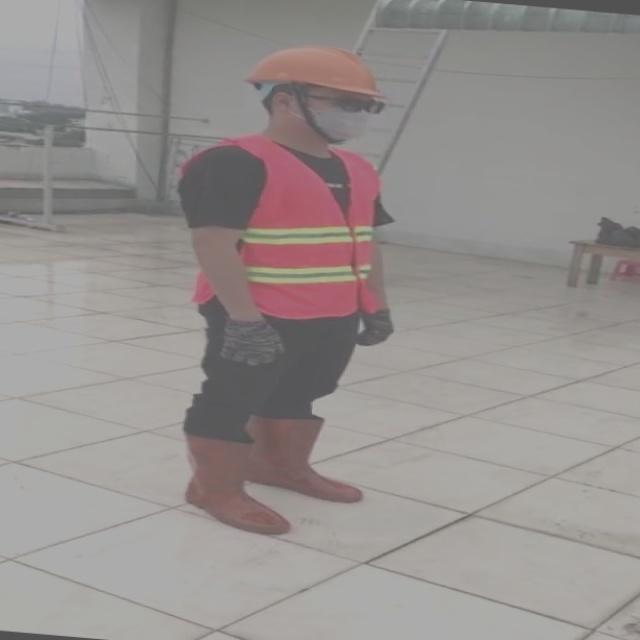Capacete: (247, 46, 382, 99)
Colete: (216, 135, 379, 319)
Oculos: (306, 93, 385, 114)
